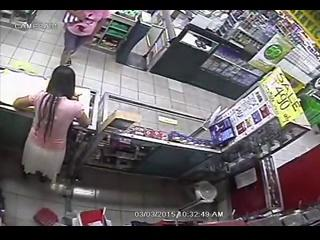Normal: (12, 65, 91, 186), (60, 11, 112, 65)
